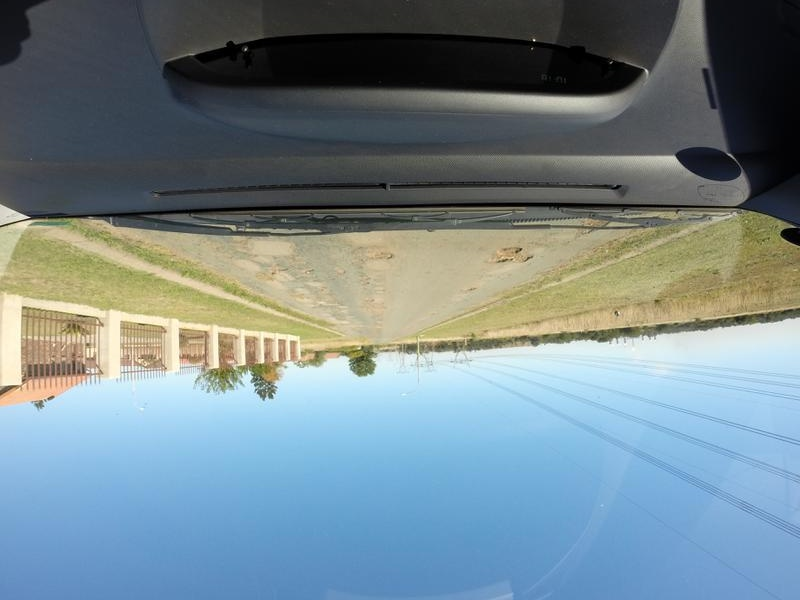pothole: (482, 237, 537, 272), (343, 246, 399, 265), (253, 262, 282, 290), (460, 286, 478, 300), (299, 263, 314, 279), (356, 267, 367, 286), (355, 296, 374, 304), (291, 289, 301, 302)
